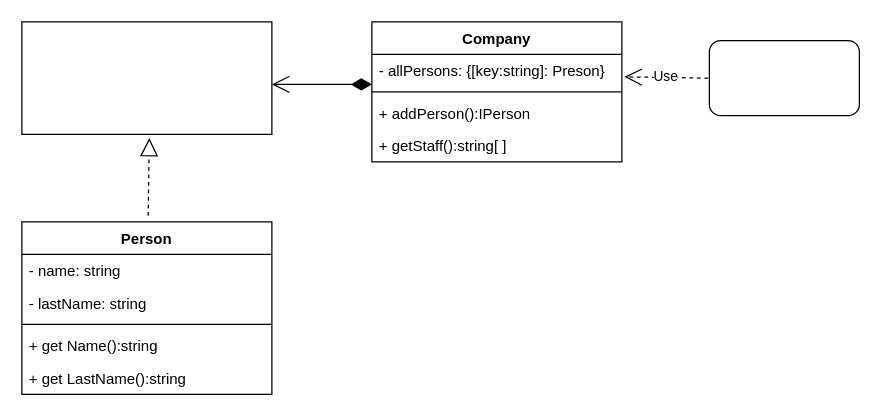
Some shapes in this 881 by 420 pixel diagram are drawn without their labels. Here are the shapes that lost their labels. From the top down, the centre of each, then its label:
[146,77]: <<Interface>> IPerson + getName():string + getLastName():string
[783,77]: client
